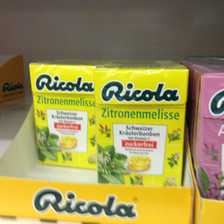candy: (92, 58, 184, 188), (27, 59, 99, 171), (187, 59, 223, 198)
